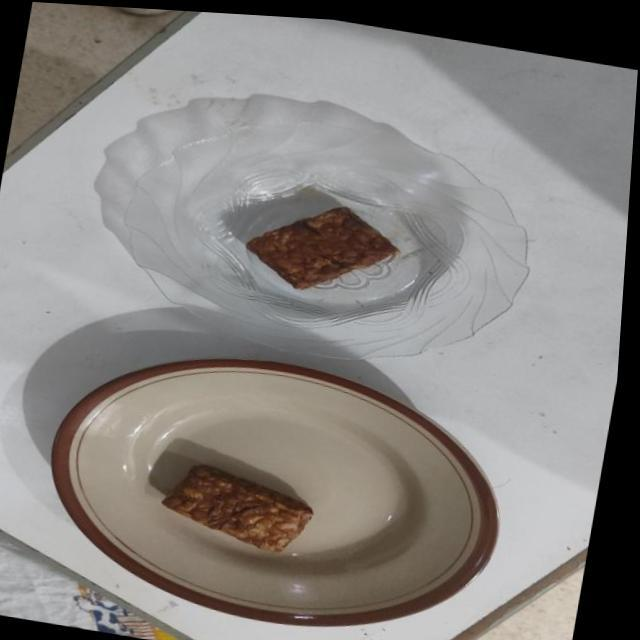tempe_goreng: (162, 466, 312, 552), (246, 207, 398, 289)
